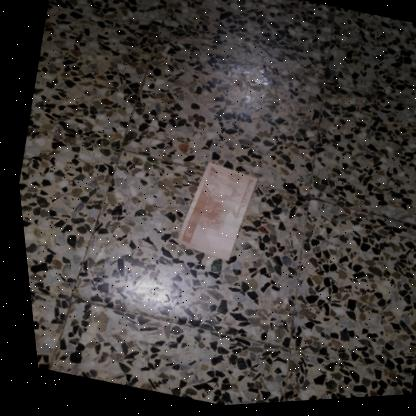vef_back: (161, 155, 263, 270)
